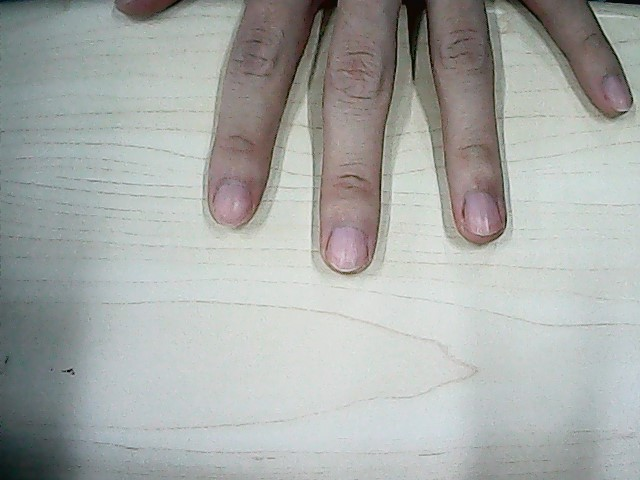nail: (324, 221, 371, 275), (459, 188, 506, 237), (211, 180, 253, 228), (600, 70, 635, 115)
